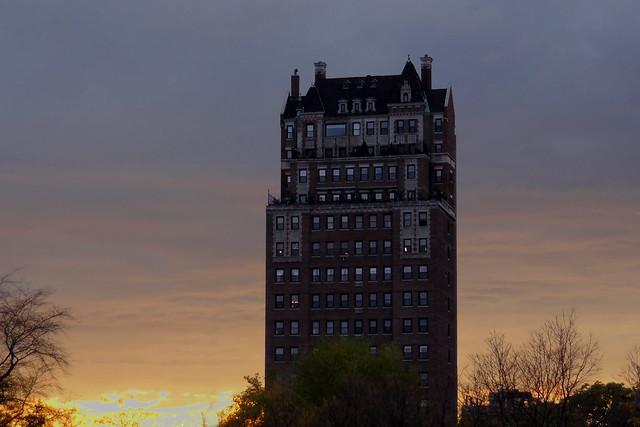building: (259, 49, 466, 426)
